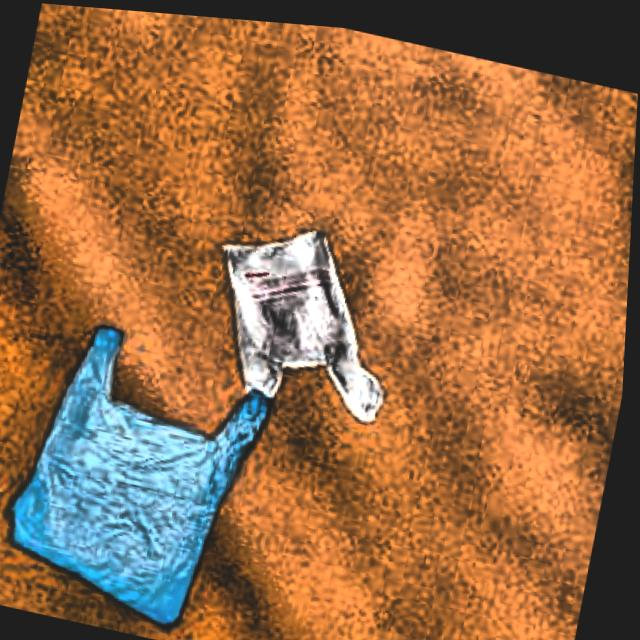Plastic: (0, 295, 290, 634), (181, 197, 443, 481)
